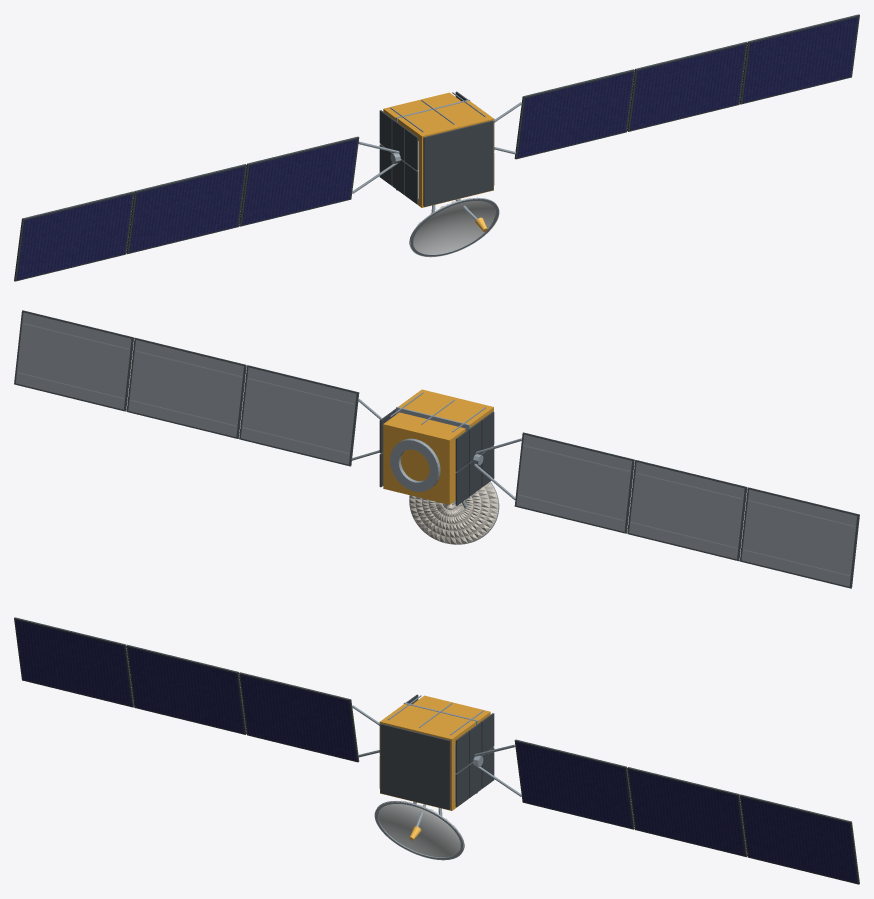
File: satcom-c.glb
The picture shows the model from 3 angles, top to bottom: view 1: azimuth 30°, elevation 25°; view 2: azimuth 150°, elevation 25°; view 3: azimuth 330°, elevation 25°; orthographic projection.
Visible parts, largest first — view 1: Solar cell panel (×6), Solar panel frame (×6), Earth-facing deck, Reflector 1 face, Payload module, Service module, Reflector 1 edge; view 2: Rear array substrate (×6), Solar panel frame (×6), Service module, Reflector 1 insulated back, Payload module, Launch adapter ring; view 3: Solar cell panel (×6), Solar panel frame (×6), Earth-facing deck, Reflector 1 face, Payload module, Service module, Reflector 1 edge.
Part boxes in pixels (x1,y1,x2,y2): Solar cell panel (×6): [17, 17, 858, 279]; Solar panel frame (×6): [14, 14, 859, 281]; Earth-facing deck: [423, 120, 493, 206]; Reflector 1 face: [410, 199, 499, 257]; Payload module: [397, 101, 493, 207]; Service module: [383, 92, 460, 120]; Reflector 1 edge: [409, 198, 498, 256]; Rear array substrate (×6): [16, 312, 857, 586]; Solar panel frame (×6): [14, 310, 859, 588]; Service module: [383, 412, 465, 504]; Reflector 1 insulated back: [409, 482, 498, 544]; Payload module: [398, 389, 493, 445]; Launch adapter ring: [390, 438, 440, 491]; Solar cell panel (×6): [15, 620, 856, 882]; Solar panel frame (×6): [14, 617, 859, 884]; Earth-facing deck: [380, 723, 450, 809]; Reflector 1 face: [374, 802, 463, 860]; Payload module: [380, 704, 476, 810]; Service module: [413, 695, 490, 723]; Reflector 1 edge: [375, 801, 464, 859].
Size of the model in its own units: 15.08 by 2.37 by 1.88.
Materials: 9 (1 with a texture image).
